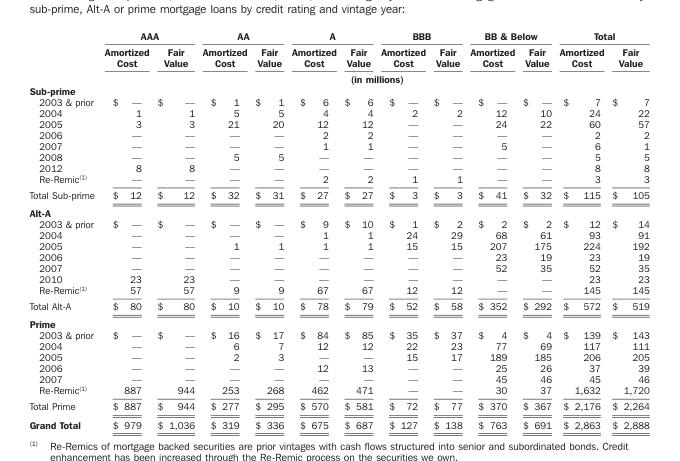table: (28, 29, 648, 429)
table column: (28, 29, 98, 429), (98, 29, 152, 429), (197, 29, 250, 429), (465, 29, 518, 429), (554, 29, 607, 429), (287, 29, 339, 429), (376, 29, 428, 429), (152, 29, 197, 429), (607, 29, 648, 429), (250, 29, 287, 429), (339, 29, 376, 429), (428, 29, 465, 429), (518, 29, 554, 429)
table column header: (28, 29, 648, 84)
table projected row header: (28, 203, 648, 218), (28, 314, 648, 329), (28, 84, 648, 96)
table row: (28, 43, 648, 70), (28, 186, 648, 203), (28, 297, 648, 314), (28, 397, 648, 414), (28, 203, 648, 218), (28, 314, 648, 329), (28, 414, 648, 429), (28, 29, 648, 43), (28, 70, 648, 84), (28, 173, 648, 186), (28, 284, 648, 297), (28, 384, 648, 397), (28, 84, 648, 96), (28, 96, 648, 107), (28, 107, 648, 118), (28, 118, 648, 129), (28, 129, 648, 140), (28, 140, 648, 151), (28, 151, 648, 162), (28, 162, 648, 173), (28, 218, 648, 229), (28, 229, 648, 240), (28, 240, 648, 251), (28, 251, 648, 262), (28, 262, 648, 273), (28, 273, 648, 284), (28, 329, 648, 340), (28, 340, 648, 351), (28, 351, 648, 362), (28, 362, 648, 373), (28, 373, 648, 384)
table spanning cell: (98, 70, 648, 84), (98, 29, 197, 43), (554, 29, 648, 43), (197, 29, 287, 43), (287, 29, 376, 43), (376, 29, 465, 43), (465, 29, 554, 43)
